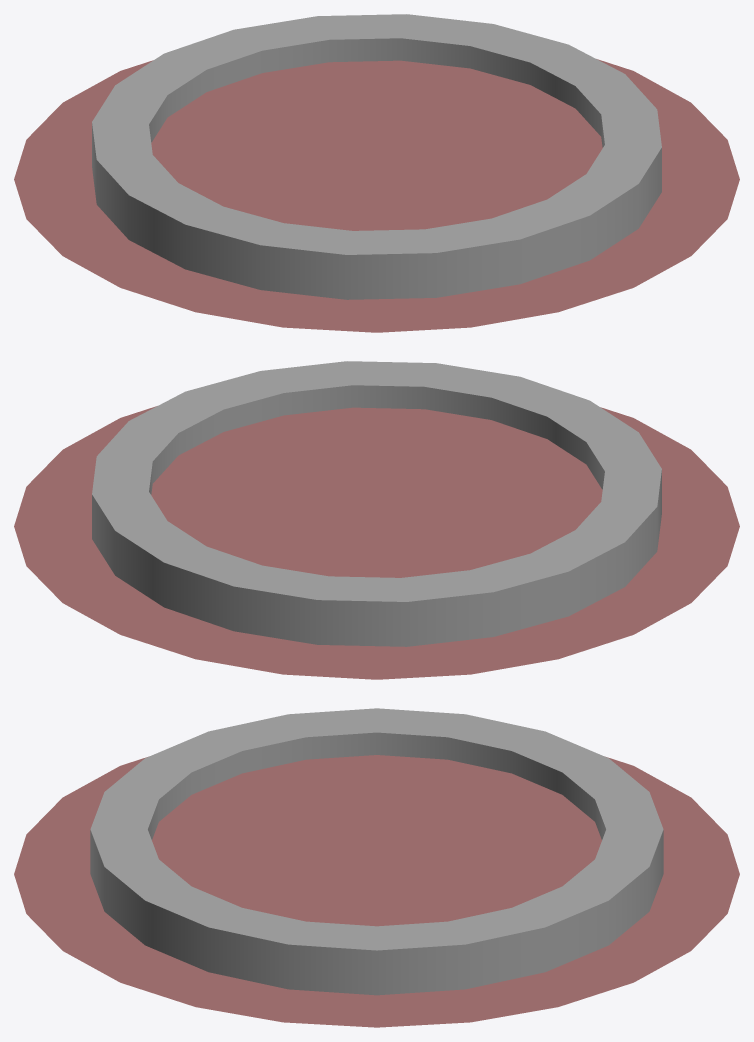
Rendered from Window_V1.fbx.
The picture shows the model from 3 angles, top to bottom: view 1: azimuth 30°, elevation 25°; view 2: azimuth 150°, elevation 25°; view 3: azimuth 270°, elevation 25°; orthographic projection.
Parts seen in each view (by area): view 1: polySurface2, polySurface1; view 2: polySurface2, polySurface1; view 3: polySurface2, polySurface1.
Part boxes in pixels (<box>): polySurface2: <box>92,14,661,299</box>; polySurface1: <box>14,59,739,332</box>; polySurface2: <box>92,361,661,646</box>; polySurface1: <box>14,406,739,679</box>; polySurface2: <box>90,708,663,995</box>; polySurface1: <box>14,756,739,1027</box>.
Size of the model in its own units: 253 by 17.26 by 253.
